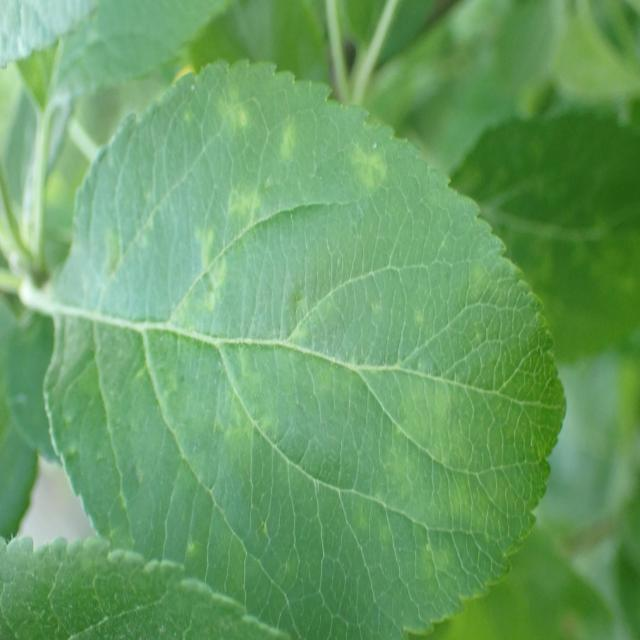scab: (85, 82, 542, 586)
